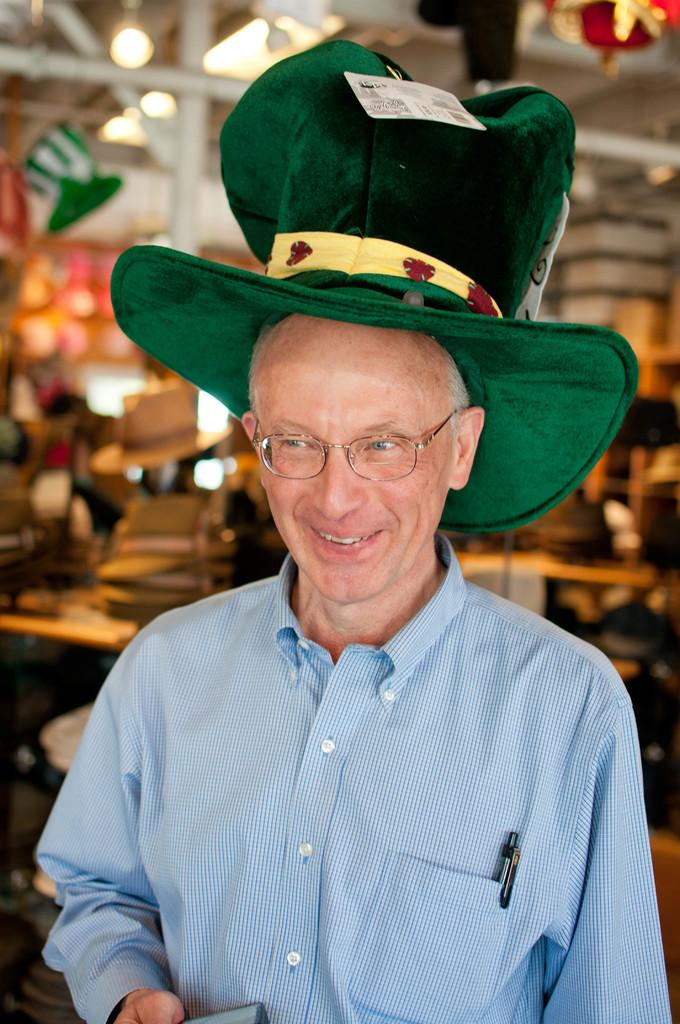Hat: (111, 40, 643, 530)
